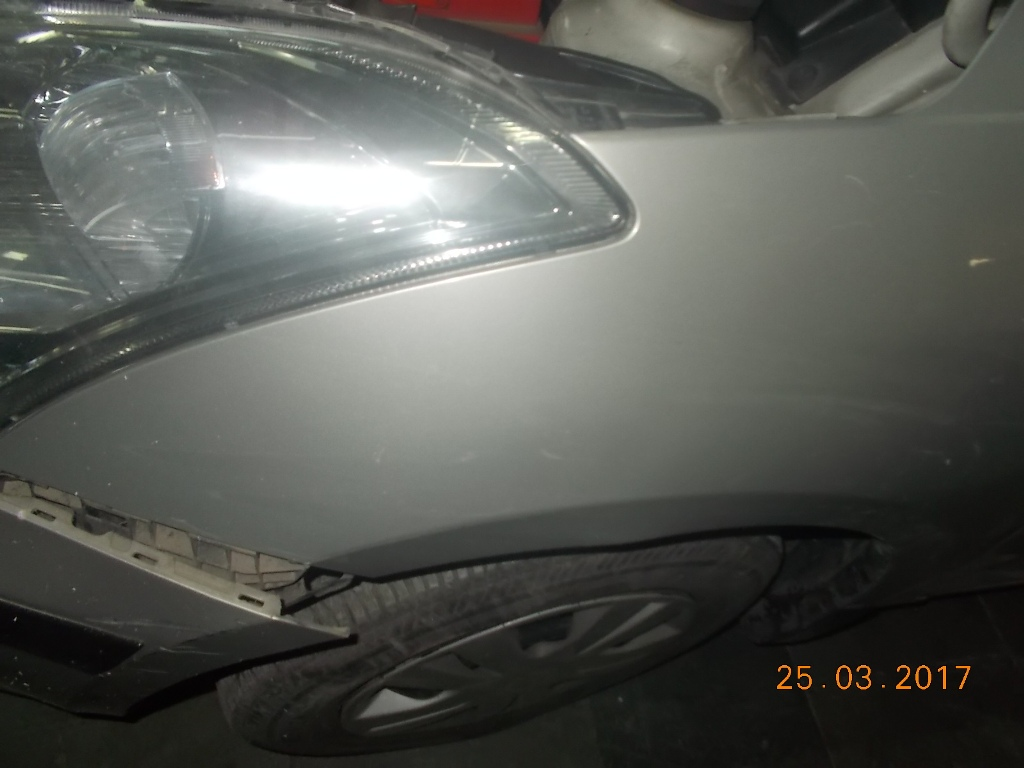Dislocation: (1, 425, 349, 686)
